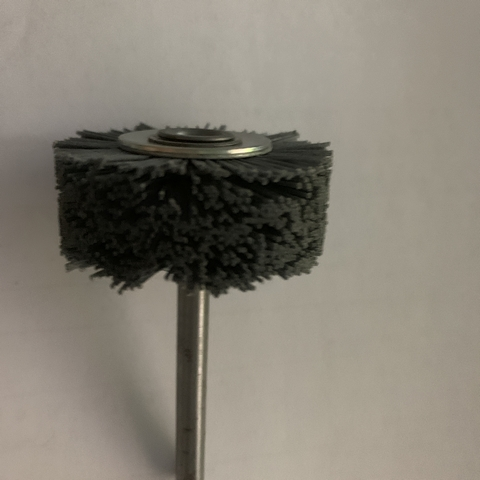Wheel Brush: (53, 129, 363, 480), (83, 107, 313, 446), (103, 98, 343, 396)
